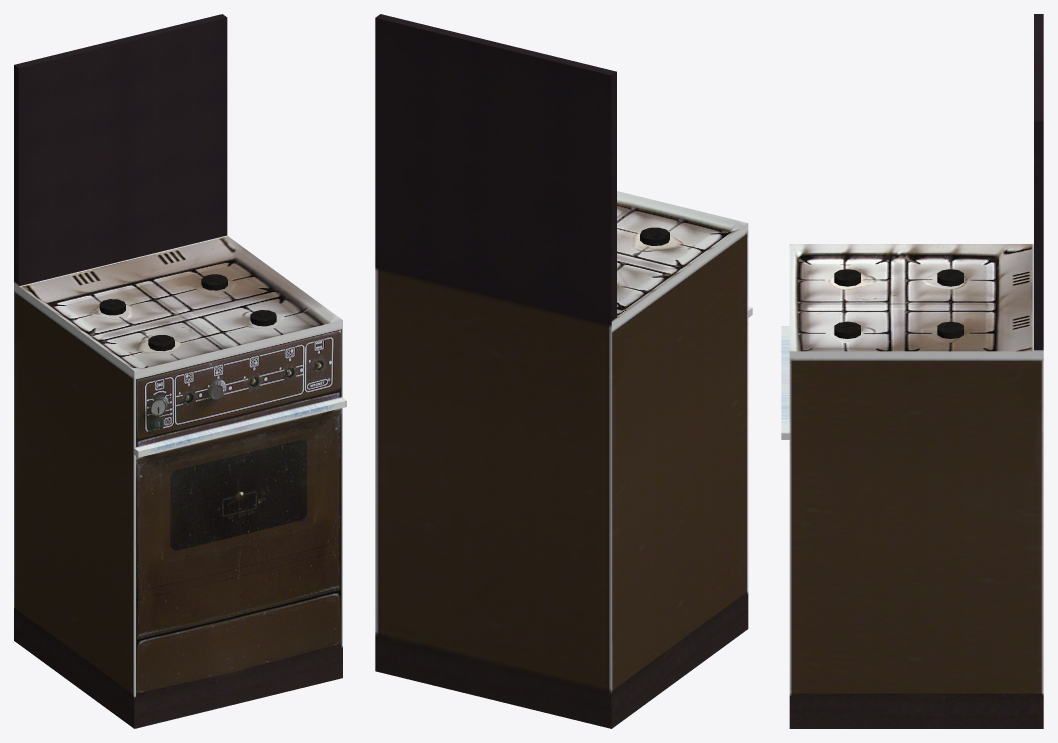
The model's file is gasstove.obj.
The picture shows the model from 3 angles, left to right: view 1: azimuth 30°, elevation 25°; view 2: azimuth 150°, elevation 25°; view 3: azimuth 270°, elevation 25°; orthographic projection. The views are drawn at different scales.
Parts seen in each view (by area): view 1: gasstove; view 2: gasstove; view 3: gasstove.
Part boxes in pixels (left/top/right/bottom): gasstove: left=14, top=14, right=346, bottom=728; gasstove: left=375, top=14, right=752, bottom=728; gasstove: left=781, top=14, right=1043, bottom=728.
Bounding box in the file's own units: 3.27 × 8.63 × 3.37.
1 material, 1 textured.
